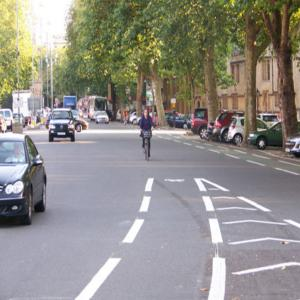Vehicle-registration-plate: (59, 132, 67, 137)
